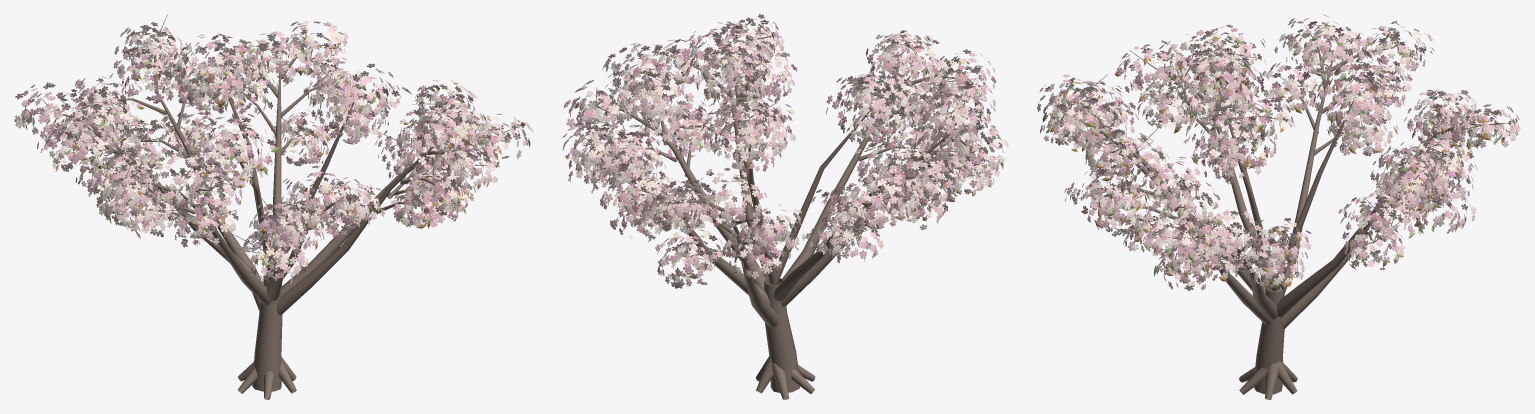
File: sakura_tree_1.glb
The picture shows the model from 3 angles, left to right: view 1: azimuth 30°, elevation 25°; view 2: azimuth 150°, elevation 25°; view 3: azimuth 270°, elevation 25°; orthographic projection. The views are drawn at different scales.
Parts seen in each view (by area): view 1: sakura_tree_1_SakuraBloomIvory, sakura_tree_1_SakuraBloomBlush, sakura_tree_1_SakuraBark, sakura_tree_1_SakuraBloomRose, sakura_tree_1_SakuraLeafCopper, sakura_tree_1_SakuraLeafSage; view 2: sakura_tree_1_SakuraBloomIvory, sakura_tree_1_SakuraBloomBlush, sakura_tree_1_SakuraBark, sakura_tree_1_SakuraBloomRose, sakura_tree_1_SakuraLeafCopper, sakura_tree_1_SakuraLeafSage; view 3: sakura_tree_1_SakuraBloomIvory, sakura_tree_1_SakuraBloomBlush, sakura_tree_1_SakuraBark, sakura_tree_1_SakuraBloomRose, sakura_tree_1_SakuraLeafCopper, sakura_tree_1_SakuraLeafSage.
Boxes of the visible parts, x1,y1,x2,y2 form: sakura_tree_1_SakuraBloomIvory: (14,21,529,281); sakura_tree_1_SakuraBloomBlush: (15,21,529,284); sakura_tree_1_SakuraBark: (29,14,521,399); sakura_tree_1_SakuraBloomRose: (22,23,525,272); sakura_tree_1_SakuraLeafCopper: (19,25,501,277); sakura_tree_1_SakuraLeafSage: (22,38,532,276); sakura_tree_1_SakuraBloomIvory: (564,14,1008,284); sakura_tree_1_SakuraBloomBlush: (562,17,1002,288); sakura_tree_1_SakuraBark: (580,21,984,399); sakura_tree_1_SakuraBloomRose: (567,23,999,272); sakura_tree_1_SakuraLeafCopper: (565,26,992,270); sakura_tree_1_SakuraLeafSage: (568,31,1003,288); sakura_tree_1_SakuraBloomIvory: (1039,19,1520,290); sakura_tree_1_SakuraBloomBlush: (1037,14,1519,290); sakura_tree_1_SakuraBark: (1068,25,1510,399); sakura_tree_1_SakuraBloomRose: (1043,21,1509,286); sakura_tree_1_SakuraLeafCopper: (1042,21,1517,287); sakura_tree_1_SakuraLeafSage: (1046,25,1496,286).
Size of the model in its own units: 10.27 by 7.47 by 10.36.
